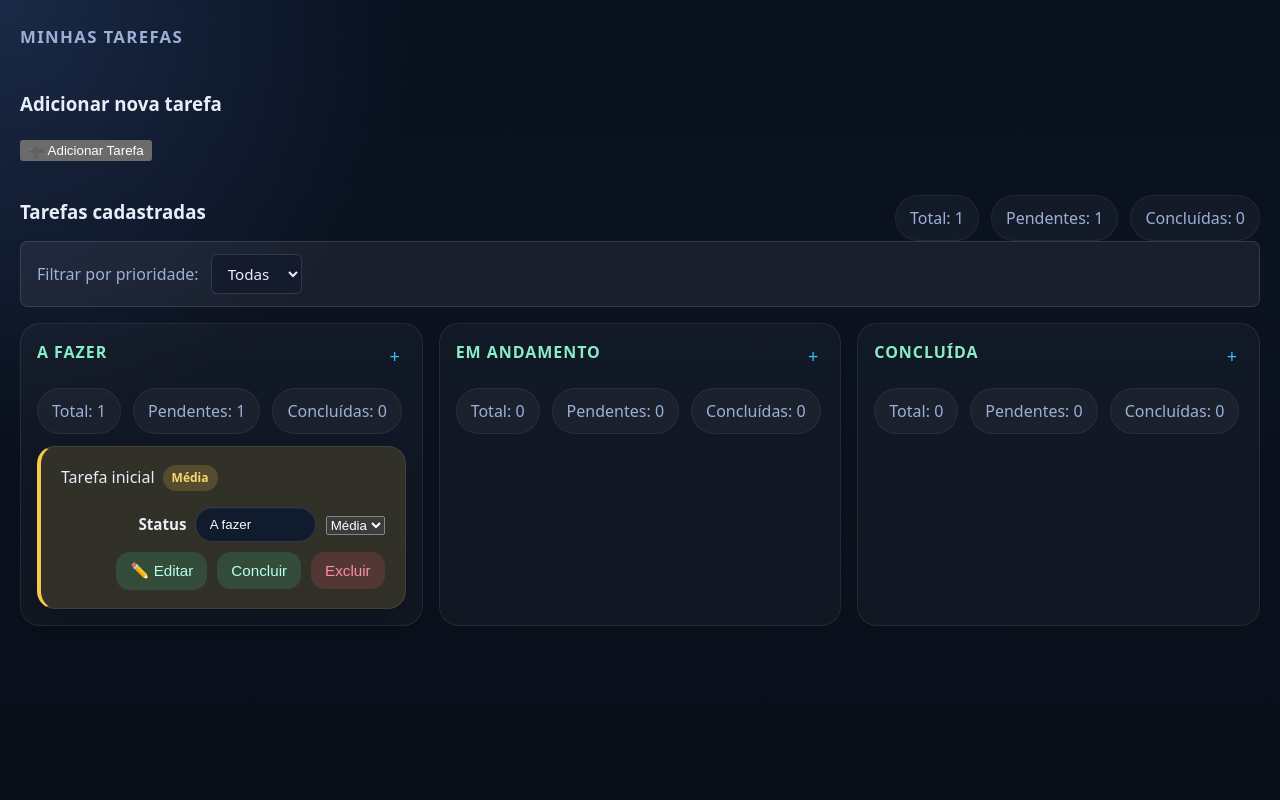
Test: Dashboard Kanban e API › cria uma tarefa pelo modal e mostra o novo item no quadro
Expected: the text "Tarefa inicial" is shown, top-left (61, 465), bottom-right (155, 490)
Click the button "➕ Adicionar Tarefa" at (86, 150), box top-left (20, 140), bottom-right (152, 161)
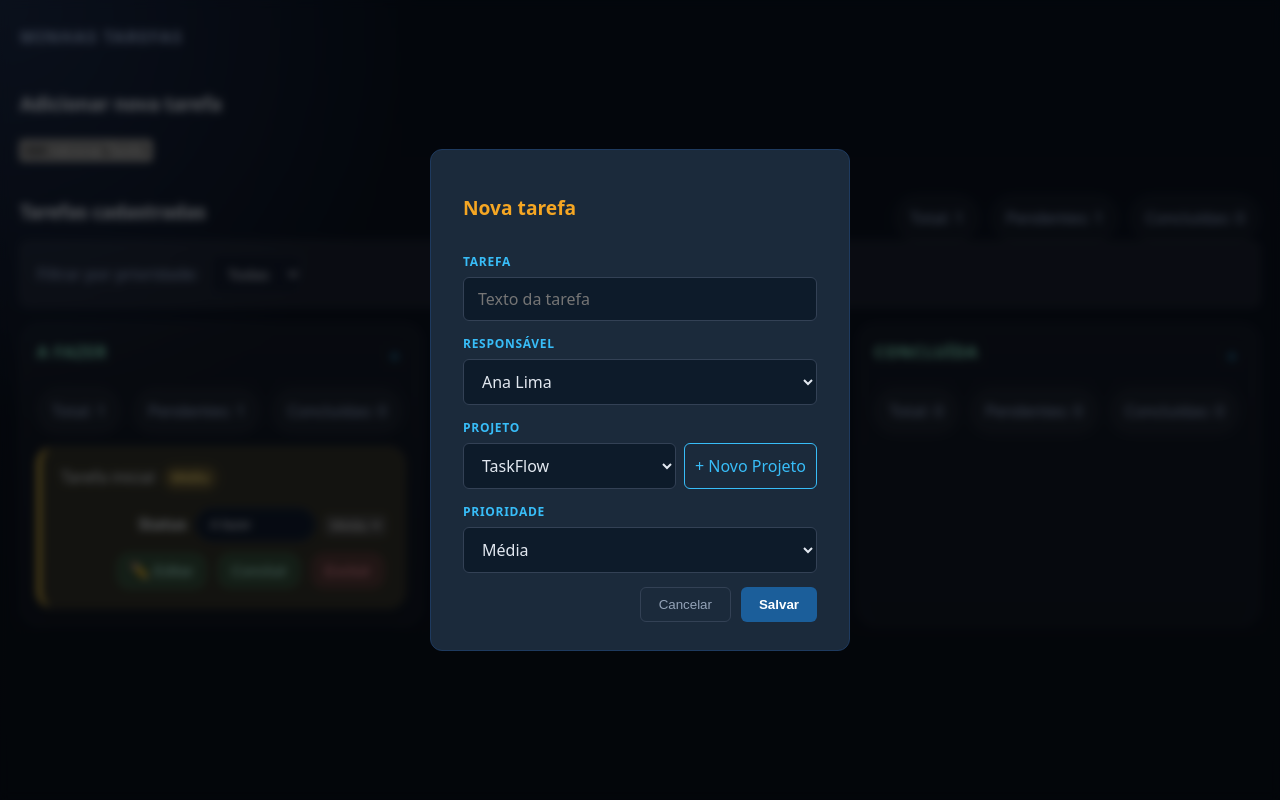
Type "Tarefa criada pelo teste" into the field labelled "Tarefa" at (640, 299), box top-left (463, 277), bottom-right (817, 321)
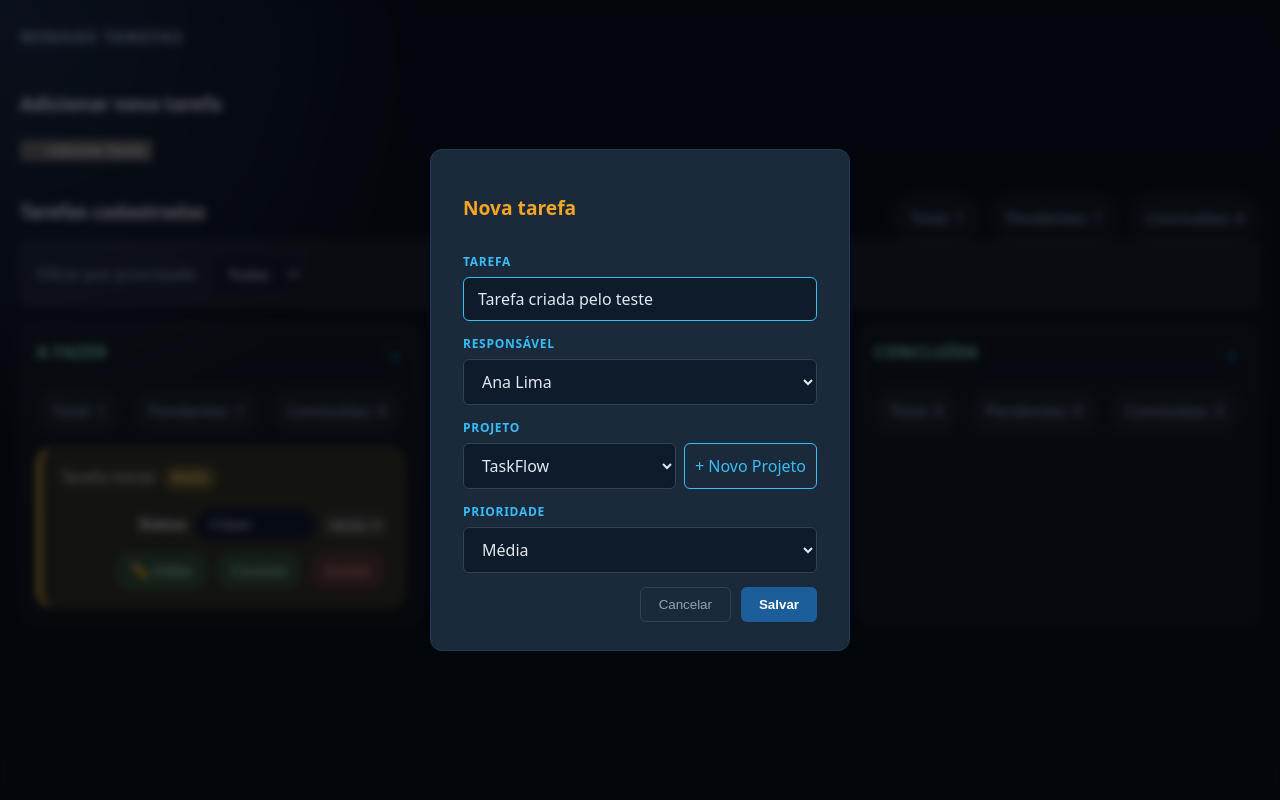
Click the button "Salvar" at (779, 604), box top-left (741, 587), bottom-right (817, 622)
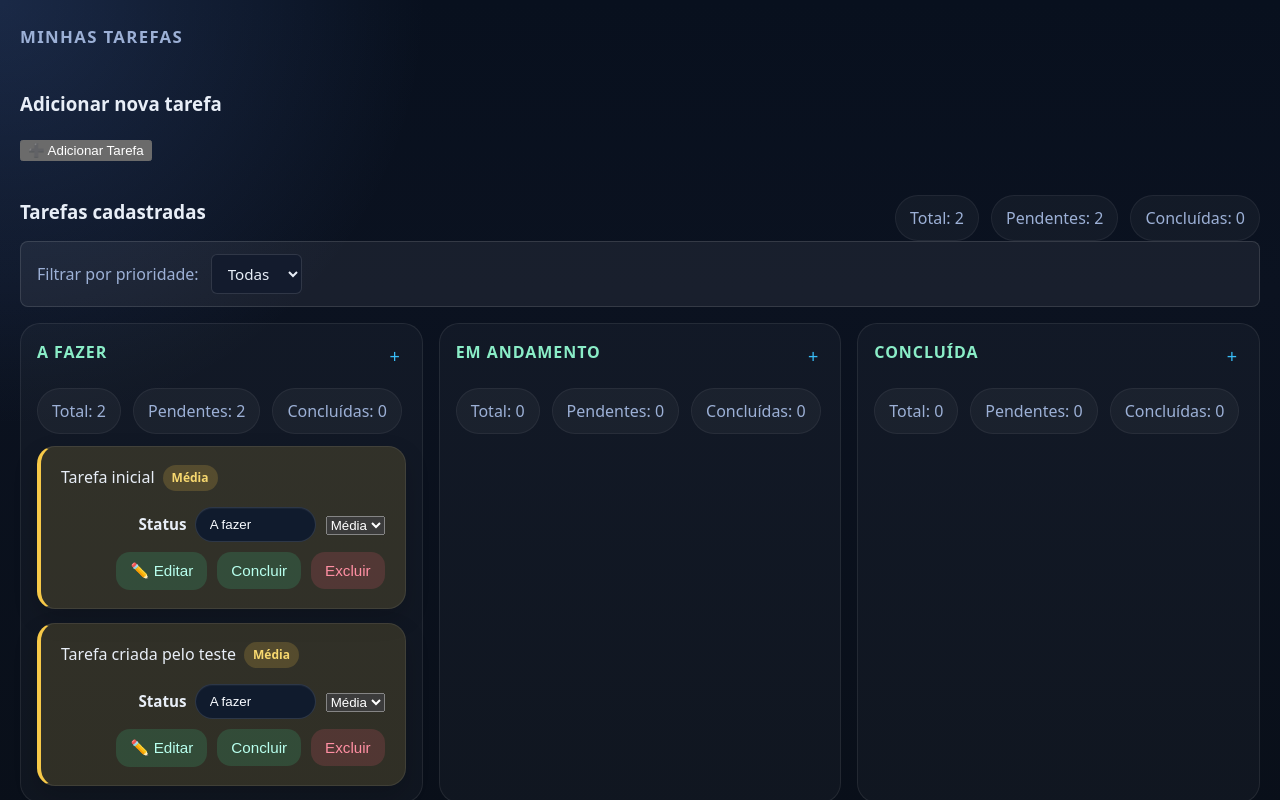
Expected: the text "Tarefa criada pelo teste" is shown, top-left (61, 642), bottom-right (236, 668)
